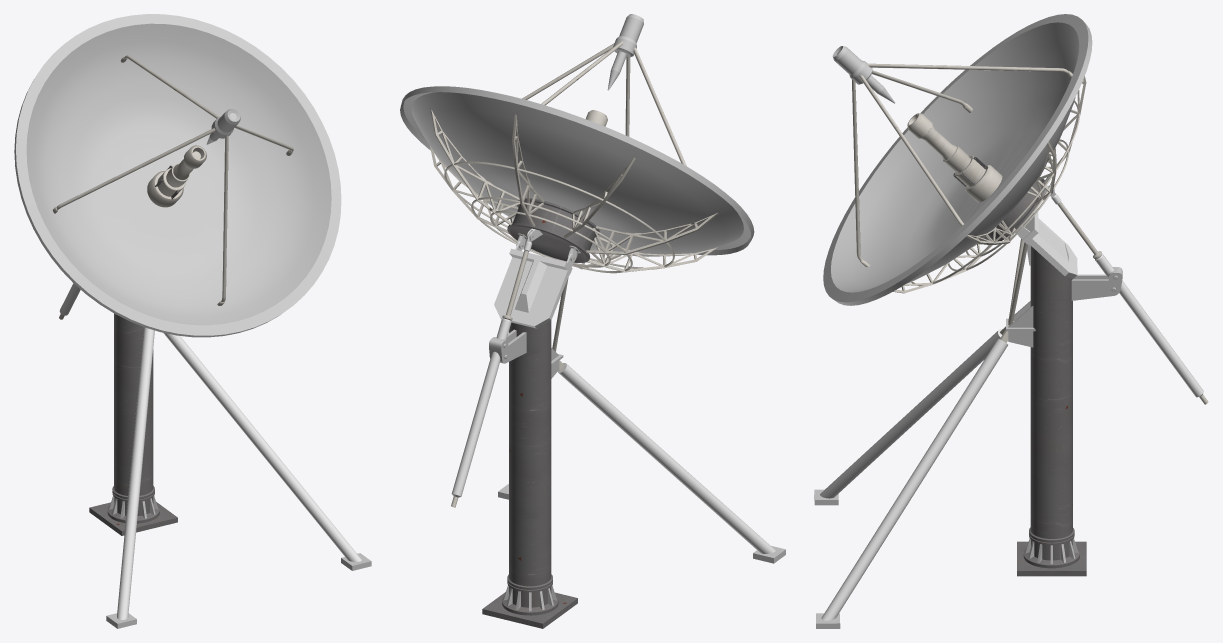
The model's file is KB3D_CBP_Antenna_I.fbx.
The picture shows the model from 3 angles, left to right: view 1: azimuth 30°, elevation 25°; view 2: azimuth 150°, elevation 25°; view 3: azimuth 270°, elevation 25°; orthographic projection. The views are drawn at different scales.
Parts seen in each view (by area): view 1: KB3D_CBP_Antenna_I_Main; view 2: KB3D_CBP_Antenna_I_Main; view 3: KB3D_CBP_Antenna_I_Main.
Boxes of the visible parts, x1,y1,x2,y2 form: KB3D_CBP_Antenna_I_Main: (14, 14, 371, 628); KB3D_CBP_Antenna_I_Main: (400, 14, 785, 628); KB3D_CBP_Antenna_I_Main: (814, 14, 1208, 628).
Bounding box in the file's own units: 623 × 960 × 655.
